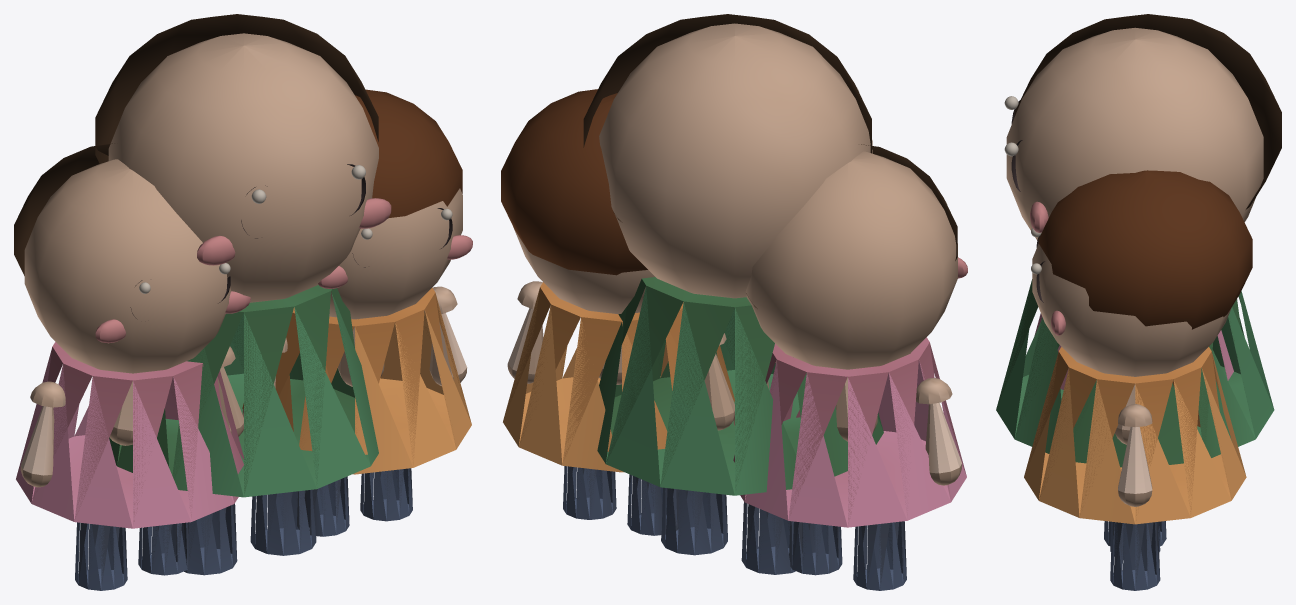
3 views of the same model, side by side, from view 1: azimuth 30°, elevation 25°; view 2: azimuth 150°, elevation 25°; view 3: azimuth 270°, elevation 25° (orthographic). The views are drawn at different scales.
Visible parts, largest first — view 1: pet_p688c5b78; view 2: pet_p688c5b78; view 3: pet_p688c5b78.
Boxes of the visible parts, box(x1,y1,x2,y2) form: pet_p688c5b78: box(14, 14, 472, 590); pet_p688c5b78: box(501, 14, 967, 590); pet_p688c5b78: box(996, 14, 1281, 590).
Size of the model in its own units: 0.5571 by 0.625 by 0.3287.
